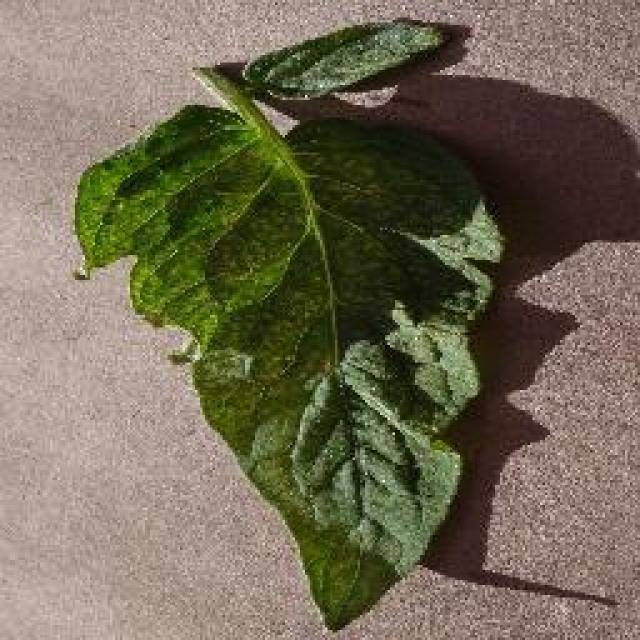Tomato___Spider_mites Two-spotted_spider_mite: (75, 22, 502, 628)
